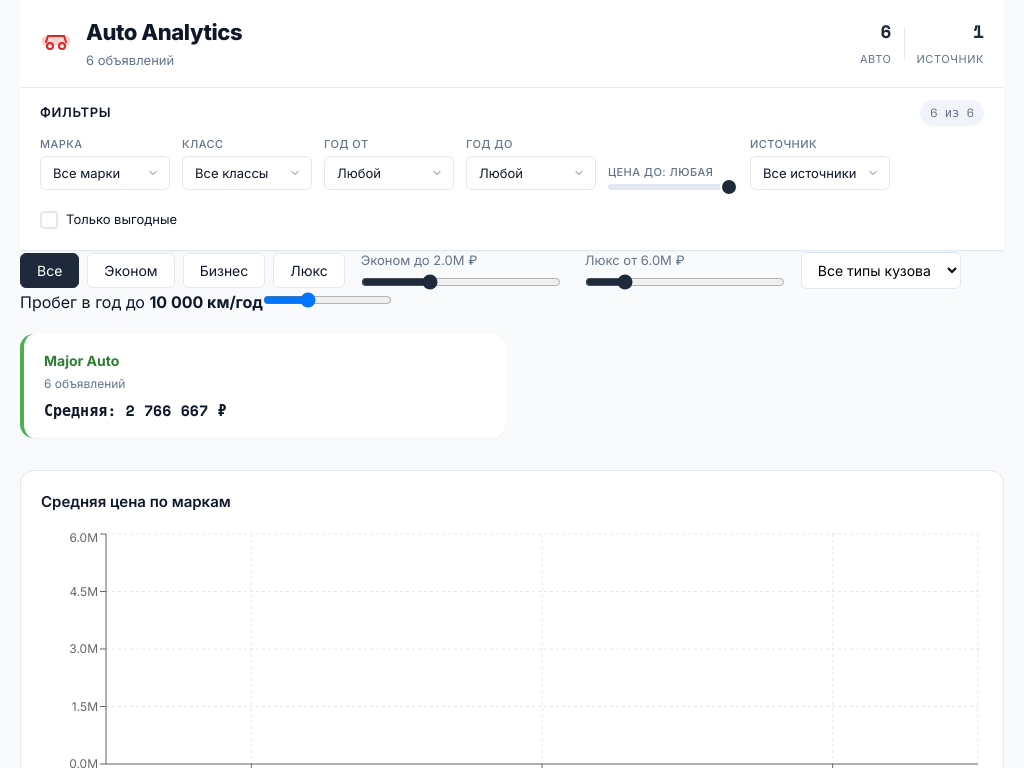
it: App smoke tests › filters by brand
Select "BMW" in the dropdown labelled "Марка". click: (105, 173)
box: left=40, top=156, right=170, bottom=190
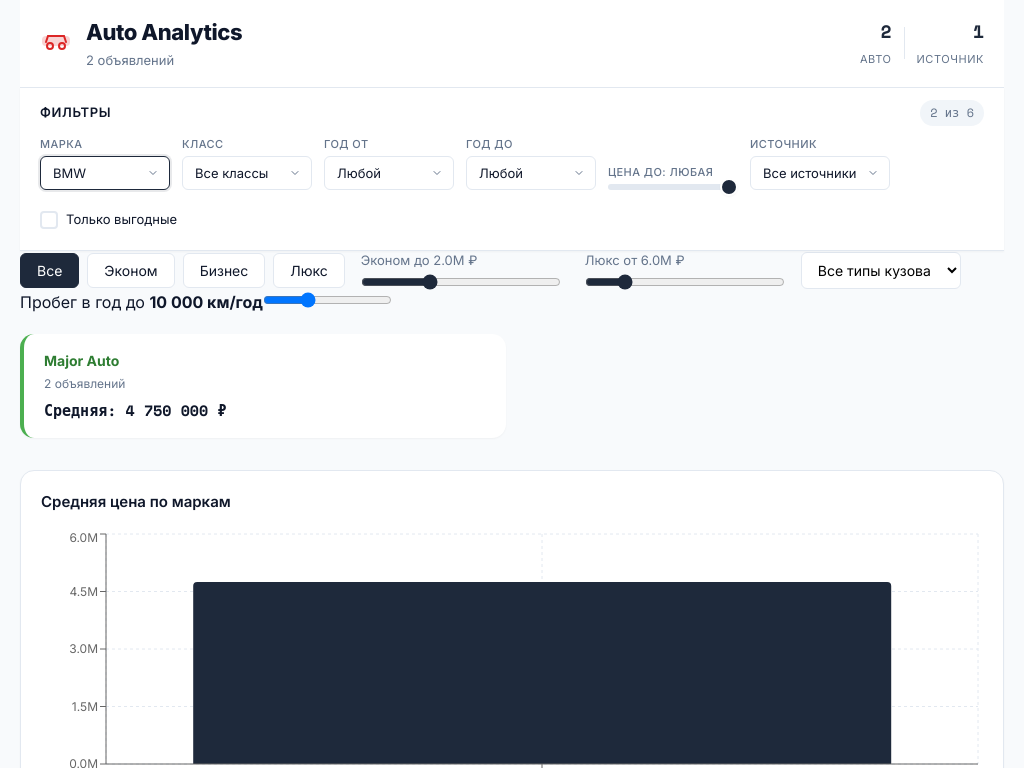
Result: the text with class "header-subtitle" reads "2 объявлений" at left=86, top=52, right=174, bottom=68
